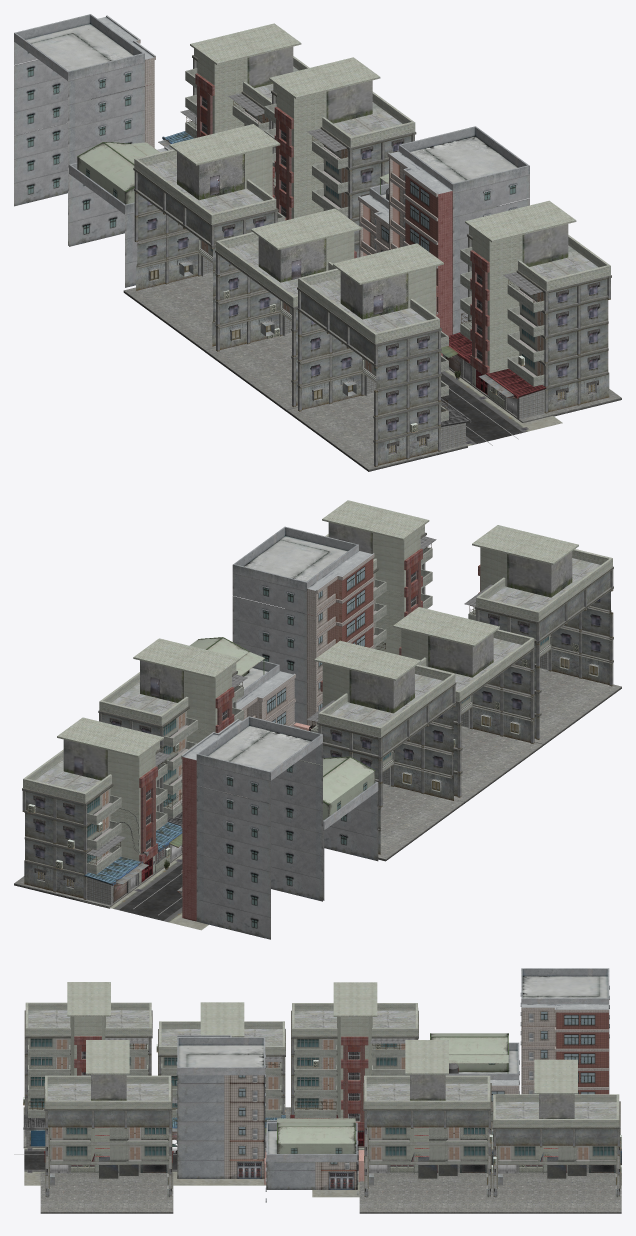
Rendered from city.glb.
The picture shows the model from 3 angles, top to bottom: view 1: azimuth 30°, elevation 25°; view 2: azimuth 150°, elevation 25°; view 3: azimuth 270°, elevation 25°; orthographic projection. The views are drawn at different scales.
Parts seen in each view (by area): view 1: S_Taiwanoldapt_2_001_I_Taiwanoldapt_2_001_04_0_461, S_Taiwanoldapt_2_06_I_Taiwanoldapt_2_001_04_0_610, Object01_ApartmentAA2_0_277, Object41_ApartmentAA2_0_354, S_ApartmentAA_2_001_1_ApartmentAA_0_395, Object34_I_Taiwanoldapt_2_001_04_0_333, Object35_I_Taiwanoldapt_2_001_04_0_335, Object08_I_Taiwanoldapt_2_001_04_0_292, Object07_I_Taiwanoldapt_2_001_04_0_290, Object22_I_Taiwanoldapt_2_001_04_0_326, Object18_I_Taiwanoldapt_2_001_04_0_321, S_Taiwanoldapt_2_05_i_taiwanoldapt_2_001_002_0_699 (+48 smaller); view 2: S_Taiwanoldapt_2_06_I_Taiwanoldapt_2_001_04_0_610, S_Taiwanoldapt_2_001_I_Taiwanoldapt_2_001_04_0_461, S_ApartmentAA_2_001_ApartmentAA2_0_375, Object01_ApartmentAA2_0_277, Object41_ApartmentAA2_0_354, S_Taiwanoldapt_2_06_i_taiwanoldapt_2_001_022_0_608, S_ApartmentAA_2_001_1_ApartmentAA_0_395, Object07_I_Taiwanoldapt_2_001_04_0_290, Object08_I_Taiwanoldapt_2_001_04_0_292, Object34_I_Taiwanoldapt_2_001_04_0_333, Object35_I_Taiwanoldapt_2_001_04_0_335, Object18_I_Taiwanoldapt_2_001_04_0_321 (+41 smaller); view 3: S_Taiwanoldapt_2_06_I_Taiwanoldapt_2_001_04_0_610, S_ApartmentAA_2_001_02_ApartmentAA_0_384, Object19_I_Taiwanoldapt_2_001_04_0_324, Object16_I_Taiwanoldapt_2_001_04_0_315, S_aptground_2_06_aptground_0_662, S_ApartmentAA_2_02_ApartmentAA2_0_397, S_aptground_2_05_aptground_0_613, S_aptground_2_04_aptground_0_549, S_Taiwanoldapt_2_001_I_Taiwanoldapt_2_001_04_0_461, Object07_I_Taiwanoldapt_2_001_04_0_290, Object34_I_Taiwanoldapt_2_001_04_0_333, Object01_ApartmentAA2_0_277 (+46 smaller).
Part boxes in pixels (x1,y1,x2,y2): S_Taiwanoldapt_2_001_I_Taiwanoldapt_2_001_04_0_461: [216, 208, 361, 379]; S_Taiwanoldapt_2_06_I_Taiwanoldapt_2_001_04_0_610: [190, 23, 309, 137]; Object01_ApartmentAA2_0_277: [14, 14, 144, 104]; Object41_ApartmentAA2_0_354: [399, 126, 529, 216]; S_ApartmentAA_2_001_1_ApartmentAA_0_395: [69, 142, 159, 287]; Object34_I_Taiwanoldapt_2_001_04_0_333: [298, 268, 439, 363]; Object35_I_Taiwanoldapt_2_001_04_0_335: [333, 243, 443, 319]; Object08_I_Taiwanoldapt_2_001_04_0_292: [169, 124, 280, 200]; Object07_I_Taiwanoldapt_2_001_04_0_290: [134, 149, 276, 244]; Object22_I_Taiwanoldapt_2_001_04_0_326: [465, 200, 576, 276]; Object18_I_Taiwanoldapt_2_001_04_0_321: [269, 57, 380, 132]; S_Taiwanoldapt_2_05_i_taiwanoldapt_2_001_002_0_699: [443, 314, 608, 419]; S_Taiwanoldapt_2_06_I_Taiwanoldapt_2_001_04_0_610: [23, 717, 163, 873]; S_Taiwanoldapt_2_001_I_Taiwanoldapt_2_001_04_0_461: [393, 607, 534, 771]; S_ApartmentAA_2_001_ApartmentAA2_0_375: [196, 821, 322, 939]; Object01_ApartmentAA2_0_277: [196, 716, 322, 803]; Object41_ApartmentAA2_0_354: [232, 526, 358, 613]; S_Taiwanoldapt_2_06_i_taiwanoldapt_2_001_022_0_608: [22, 748, 182, 905]; S_ApartmentAA_2_001_1_ApartmentAA_0_395: [304, 756, 378, 900]; Object07_I_Taiwanoldapt_2_001_04_0_290: [318, 665, 455, 755]; Object08_I_Taiwanoldapt_2_001_04_0_292: [314, 640, 421, 713]; Object34_I_Taiwanoldapt_2_001_04_0_333: [476, 549, 612, 639]; Object35_I_Taiwanoldapt_2_001_04_0_335: [472, 525, 578, 597]; Object18_I_Taiwanoldapt_2_001_04_0_321: [133, 638, 240, 711]; S_Taiwanoldapt_2_06_I_Taiwanoldapt_2_001_04_0_610: [493, 1059, 619, 1164]; S_ApartmentAA_2_001_02_ApartmentAA_0_384: [265, 1118, 358, 1202]; Object19_I_Taiwanoldapt_2_001_04_0_324: [364, 1075, 490, 1127]; Object16_I_Taiwanoldapt_2_001_04_0_315: [45, 1075, 171, 1127]; S_aptground_2_06_aptground_0_662: [40, 1172, 173, 1213]; S_ApartmentAA_2_02_ApartmentAA2_0_397: [177, 1121, 265, 1178]; S_aptground_2_05_aptground_0_613: [359, 1172, 492, 1213]; S_aptground_2_04_aptground_0_549: [488, 1172, 621, 1213]; S_Taiwanoldapt_2_001_I_Taiwanoldapt_2_001_04_0_461: [159, 1002, 285, 1114]; Object07_I_Taiwanoldapt_2_001_04_0_290: [292, 1003, 418, 1052]; Object34_I_Taiwanoldapt_2_001_04_0_333: [25, 1002, 151, 1052]; Object01_ApartmentAA2_0_277: [520, 968, 609, 1024].
Size of the model in its own units: 37.38 by 21.84 by 84.5.
75 materials, 75 textured.
